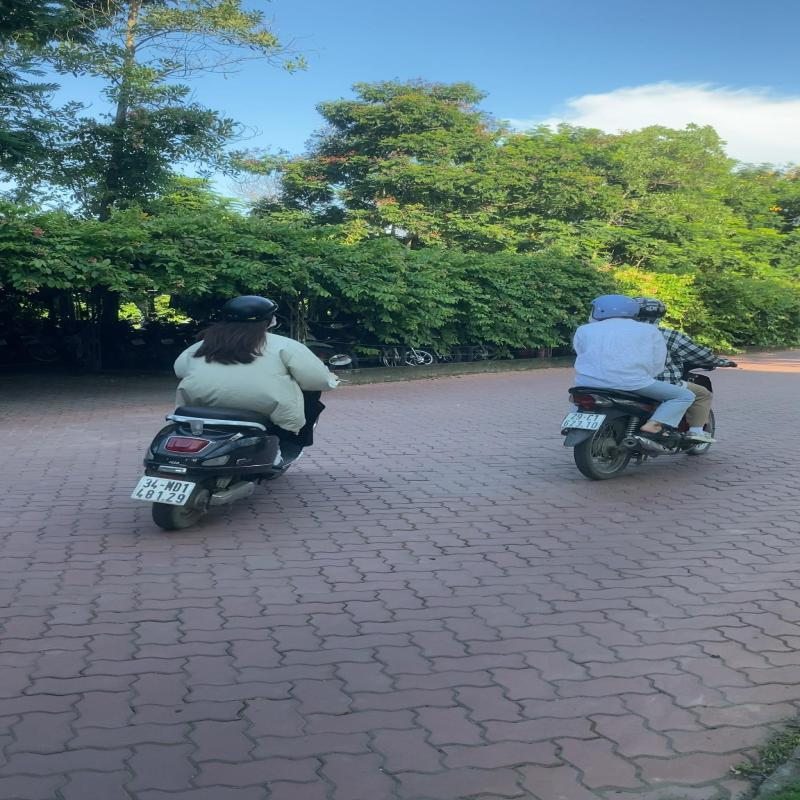helmet: (222, 294, 280, 324), (589, 295, 642, 321), (632, 296, 669, 320)
licenseplate: (131, 474, 198, 507), (561, 411, 608, 430)
motorcyclist: (130, 295, 344, 532), (562, 296, 735, 481)
